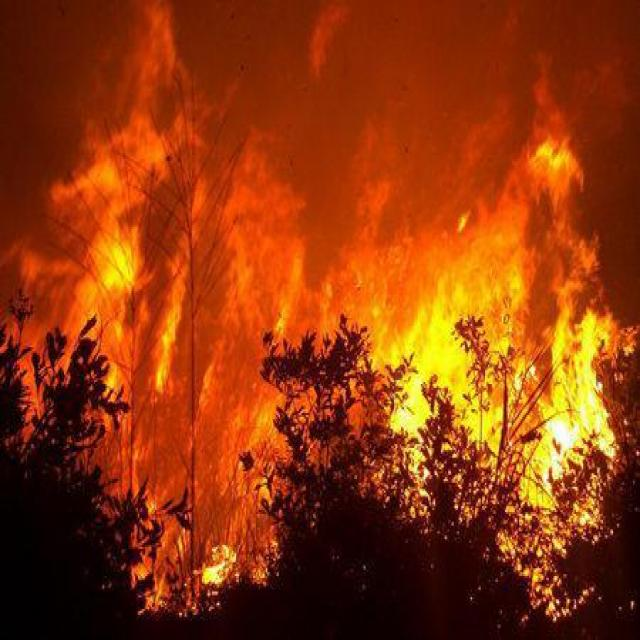fire: (12, 93, 626, 597)
